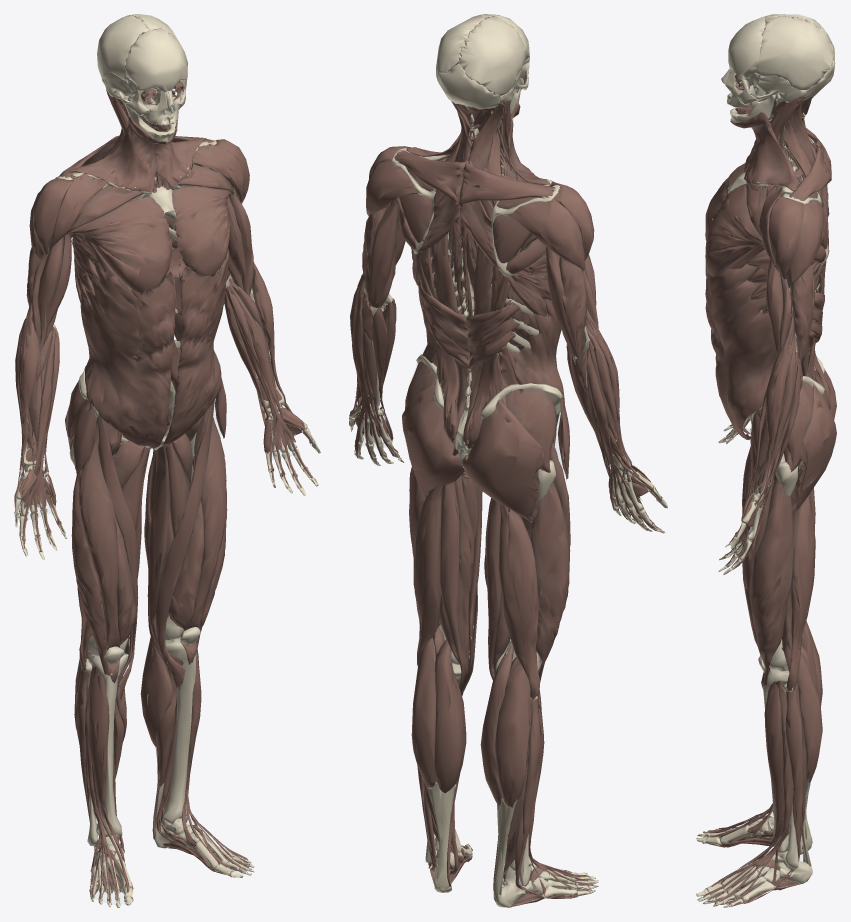
The model's file is anatomy-low.glb.
The picture shows the model from 3 angles, left to right: view 1: azimuth 30°, elevation 25°; view 2: azimuth 150°, elevation 25°; view 3: azimuth 270°, elevation 25°; orthographic projection. The views are drawn at different scales.
Visible parts, largest first — view 1: muscle-torso.001, muscle-left-thigh.001, muscle-right-thigh.001, bone-torso.001, muscle-right-shin.001, muscle-left-shin.001, bone-left-shin.001, bone-right-shin.001, bone-left-thigh.001, bone-right-thigh.001; view 2: muscle-torso.001, muscle-right-thigh.001, muscle-left-thigh.001, bone-torso.001, muscle-right-shin.001, muscle-left-shin.001, bone-right-shin.001, bone-right-thigh.001, tendon-left-shin.001, bone-left-thigh.001, tendon-right-shin.001, bone-left-shin.001; view 3: muscle-torso.001, muscle-left-thigh.001, bone-torso.001, muscle-left-shin.001, bone-left-shin.001, bone-left-thigh.001, muscle-right-shin.001, bone-right-shin.001, muscle-right-thigh.001, tendon-left-shin.001.
Boxes of the visible parts, x1,y1,x2,y2 form: muscle-torso.001: [15, 81, 313, 540]; muscle-left-thigh.001: [144, 286, 312, 689]; muscle-right-thigh.001: [14, 328, 150, 703]; bone-torso.001: [21, 14, 285, 469]; muscle-right-shin.001: [74, 637, 133, 902]; muscle-left-shin.001: [140, 636, 249, 875]; bone-left-shin.001: [154, 627, 254, 877]; bone-right-shin.001: [84, 646, 133, 907]; bone-left-thigh.001: [165, 405, 320, 640]; bone-right-thigh.001: [15, 445, 128, 655]; muscle-torso.001: [350, 100, 654, 524]; muscle-right-thigh.001: [462, 348, 662, 701]; muscle-left-thigh.001: [349, 292, 482, 696]; bone-torso.001: [359, 14, 630, 469]; muscle-right-shin.001: [480, 645, 594, 907]; muscle-left-shin.001: [411, 626, 472, 886]; bone-right-shin.001: [495, 660, 598, 907]; bone-right-thigh.001: [495, 460, 667, 670]; tendon-left-shin.001: [423, 779, 456, 889]; bone-left-thigh.001: [349, 404, 459, 664]; tendon-right-shin.001: [493, 798, 517, 902]; bone-left-shin.001: [425, 664, 472, 892]; muscle-torso.001: [705, 75, 831, 558]; muscle-left-thigh.001: [723, 361, 836, 691]; bone-torso.001: [721, 14, 835, 495]; muscle-left-shin.001: [703, 645, 822, 906]; bone-left-shin.001: [696, 655, 812, 907]; bone-left-thigh.001: [718, 453, 798, 671]; muscle-right-shin.001: [704, 621, 822, 849]; bone-right-shin.001: [696, 807, 812, 854]; muscle-right-thigh.001: [723, 368, 836, 531]; tendon-left-shin.001: [801, 778, 811, 866].
Size of the model in its own units: 0.6819 by 1.8 by 0.2695.
